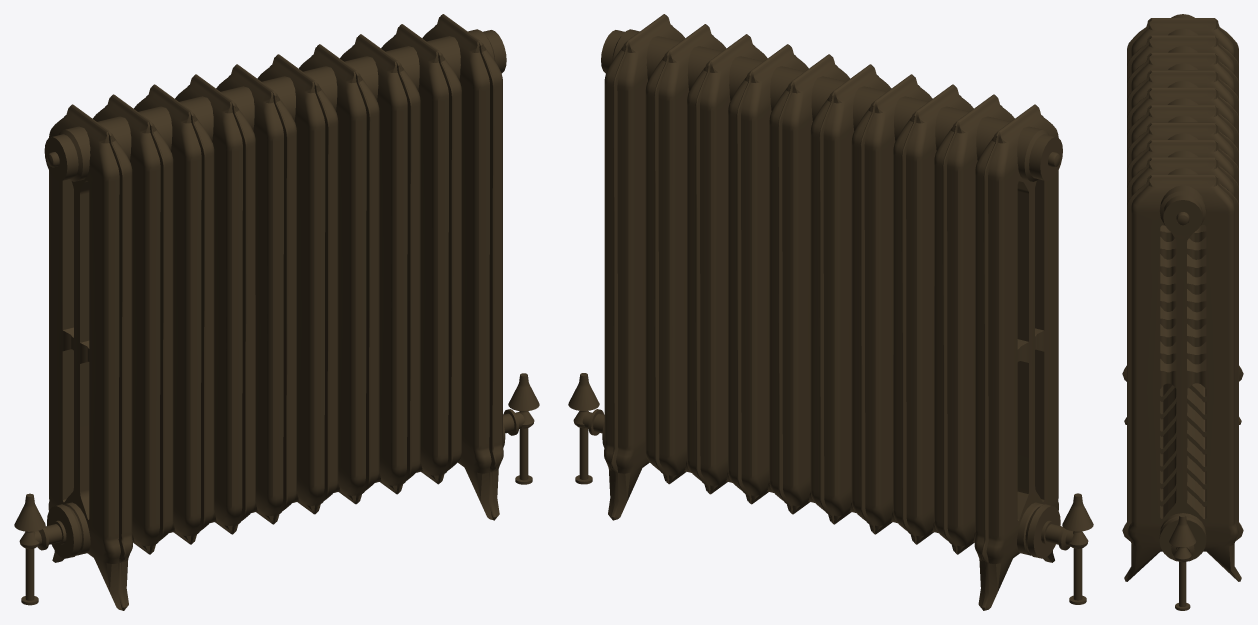
The model's file is AP_Radiator_HB 1.fbx.
3 renders of one model, left to right at view 1: azimuth 30°, elevation 25°; view 2: azimuth 150°, elevation 25°; view 3: azimuth 270°, elevation 25°, orthographic. The views are drawn at different scales.
Visible parts, largest first — view 1: pCylinder24; view 2: pCylinder24; view 3: pCylinder24.
Boxes of the visible parts, box(x1,y1,x2,y2) form: pCylinder24: box(14, 14, 539, 610); pCylinder24: box(568, 14, 1093, 610); pCylinder24: box(1122, 14, 1243, 610).
Size of the model in its own units: 1.29 by 1.1 by 0.2987.
